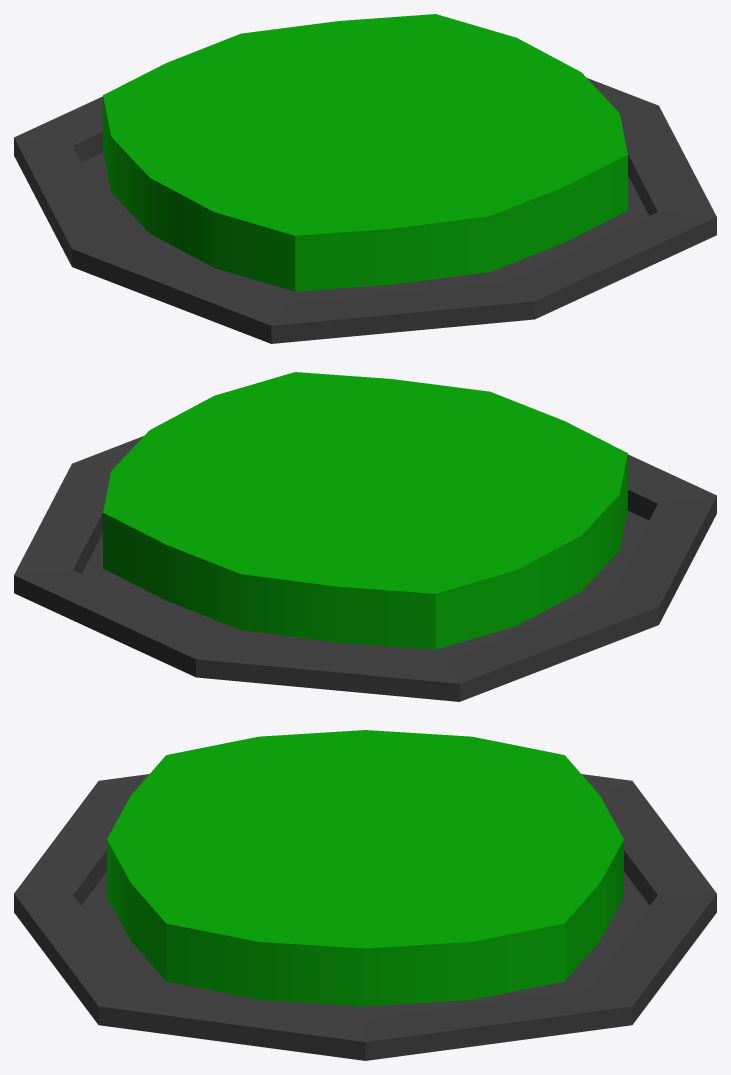
The model's file is Panel.fbx.
3 renders of one model, top to bottom at view 1: azimuth 30°, elevation 25°; view 2: azimuth 150°, elevation 25°; view 3: azimuth 270°, elevation 25°, orthographic. The views are drawn at different scales.
Visible parts, largest first — view 1: polySurface1, polySurface2, polySurface3; view 2: polySurface1, polySurface2, polySurface3; view 3: polySurface1, polySurface2, polySurface3.
Part boxes in pixels (left/top/right/bottom): polySurface1: left=103, top=14, right=627, bottom=291; polySurface2: left=14, top=78, right=716, bottom=343; polySurface3: left=82, top=153, right=648, bottom=302; polySurface1: left=103, top=372, right=627, bottom=649; polySurface2: left=14, top=436, right=716, bottom=701; polySurface3: left=82, top=511, right=648, bottom=660; polySurface1: left=107, top=730, right=623, bottom=1006; polySurface2: left=14, top=774, right=716, bottom=1060; polySurface3: left=81, top=872, right=649, bottom=1018.
Bounding box in the file's own units: 57.86 × 8.64 × 57.86.
